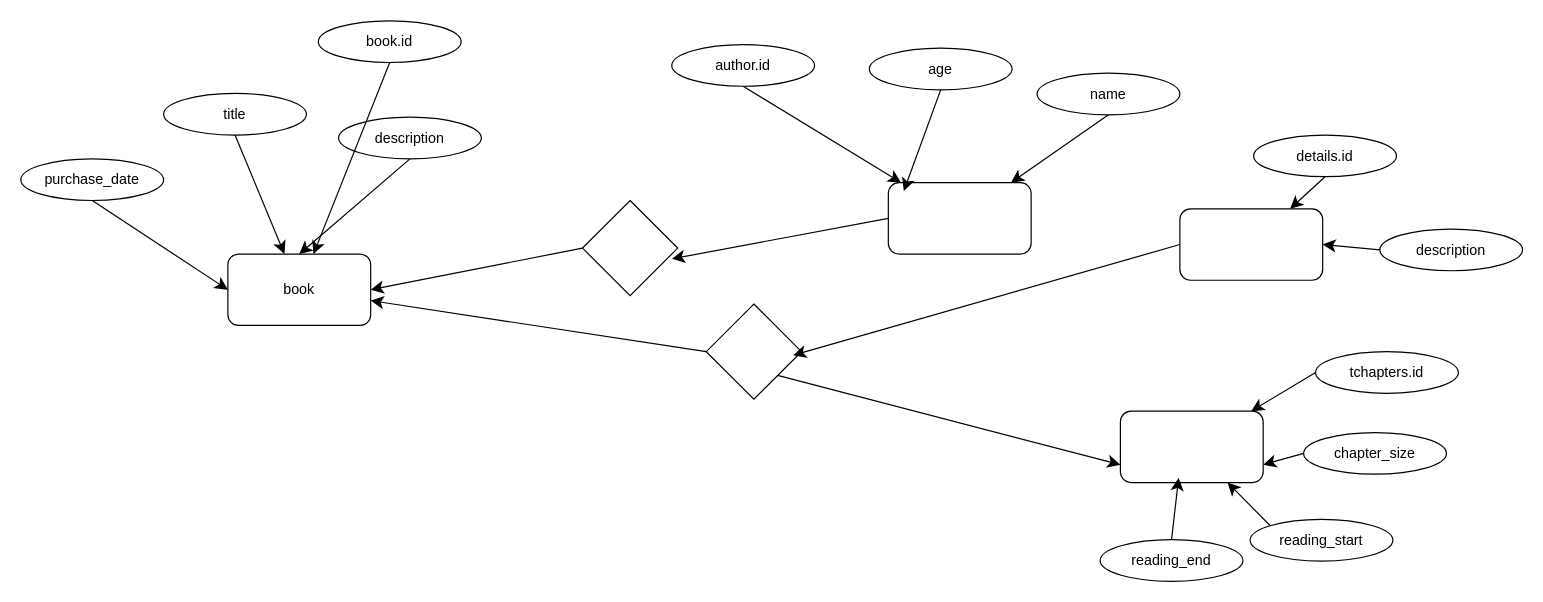
This 1543x602 diagram has some shape labels left out. Here are the shapes that lost their labels. From the top down, the box of each, then its label:
(887, 181, 1031, 254): author
(581, 199, 678, 296): written by
(1179, 208, 1323, 280): Details
(705, 303, 801, 399): has
(1119, 410, 1263, 483): Chapters
